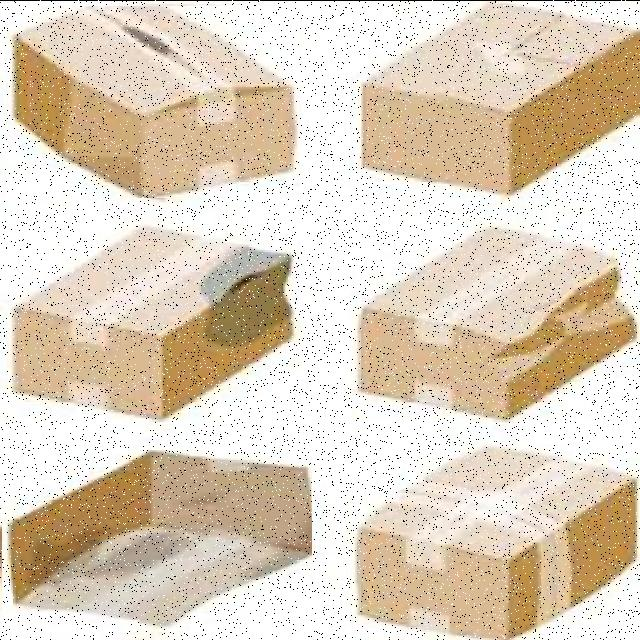defect: (6, 5, 300, 197), (2, 449, 312, 631), (11, 220, 295, 418), (356, 223, 636, 419)
normal: (357, 5, 640, 194), (357, 451, 640, 640)
